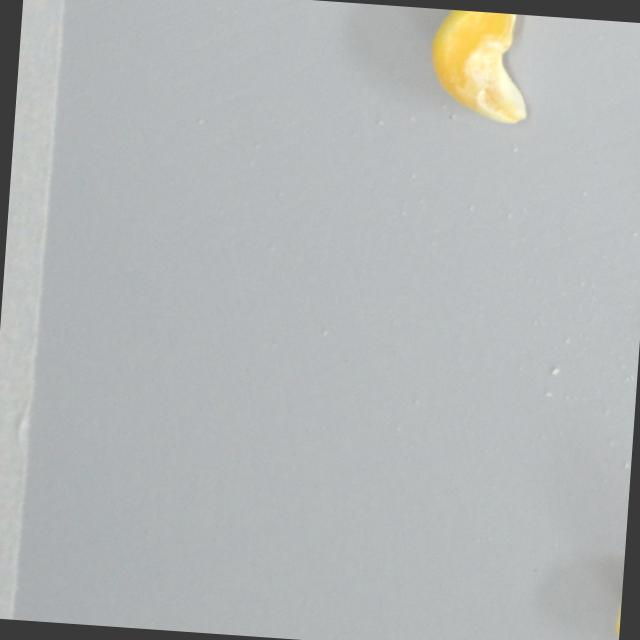dañado: (421, 7, 536, 129)
